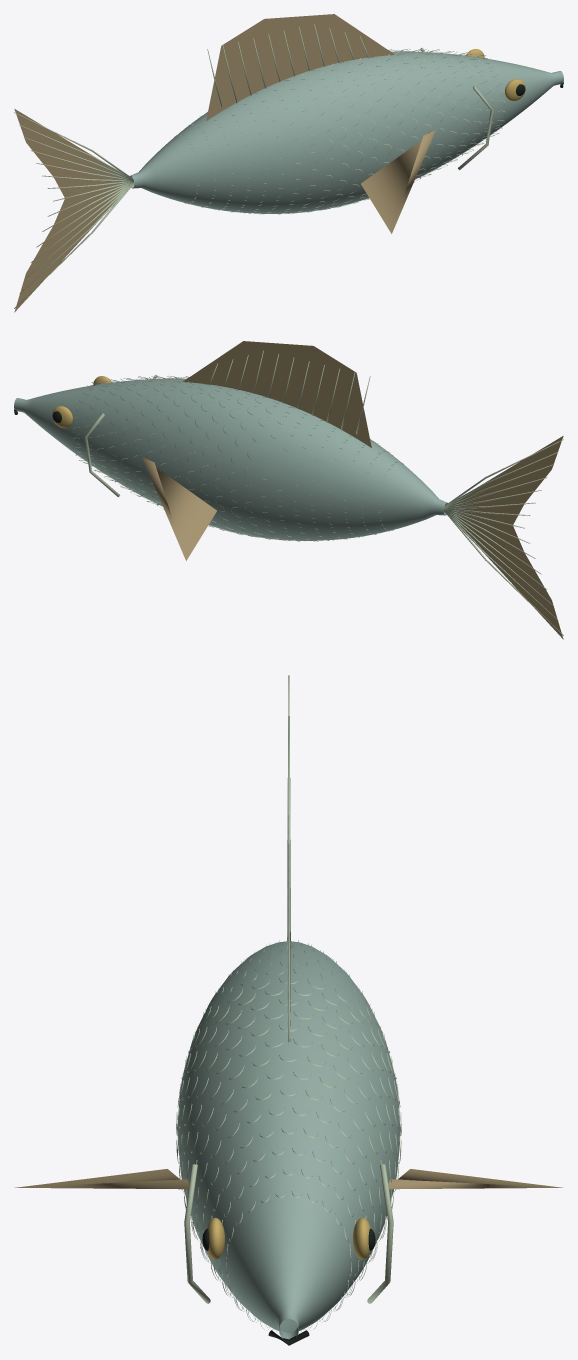
File: fish.glb
3 renders of one model, top to bottom at view 1: azimuth 30°, elevation 25°; view 2: azimuth 150°, elevation 25°; view 3: azimuth 270°, elevation 25°, orthographic. The views are drawn at different scales.
Visible parts, largest first — view 1: Body, DorsalFin, ForkedTail, Scales, TailRay0, Eye-1; view 2: Body, DorsalFin, ForkedTail, Scales, TailRay0, Eye-1; view 3: Body, Scales, DorsalFin, Eye-1.
Boxes of the visible parts, <box> form: Body: <box>130,51,563,213</box>; DorsalFin: <box>206,14,435,233</box>; ForkedTail: <box>14,109,121,312</box>; Scales: <box>174,23,505,214</box>; TailRay0: <box>14,112,134,308</box>; Eye-1: <box>466,49,525,101</box>; Body: <box>14,378,447,540</box>; DorsalFin: <box>142,341,371,560</box>; ForkedTail: <box>456,436,563,639</box>; Scales: <box>72,350,403,541</box>; TailRay0: <box>443,439,563,635</box>; Eye-1: <box>52,376,111,428</box>; Body: <box>177,941,400,1339</box>; Scales: <box>176,815,401,1331</box>; DorsalFin: <box>14,1169,563,1189</box>; Eye-1: <box>207,1218,370,1259</box>.
Bounding box in the file's own units: 1.41 × 0.57 × 0.68.
